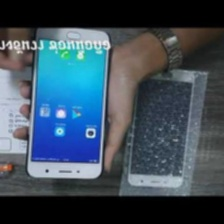phone: (22, 24, 112, 181), (125, 65, 198, 192)
